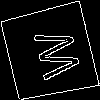W: (24, 26, 82, 84)
